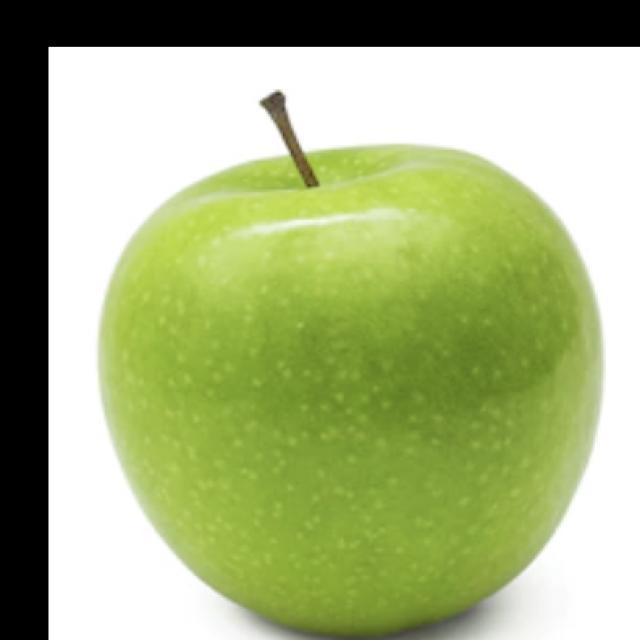Fresh Apple: (97, 150, 623, 640)
